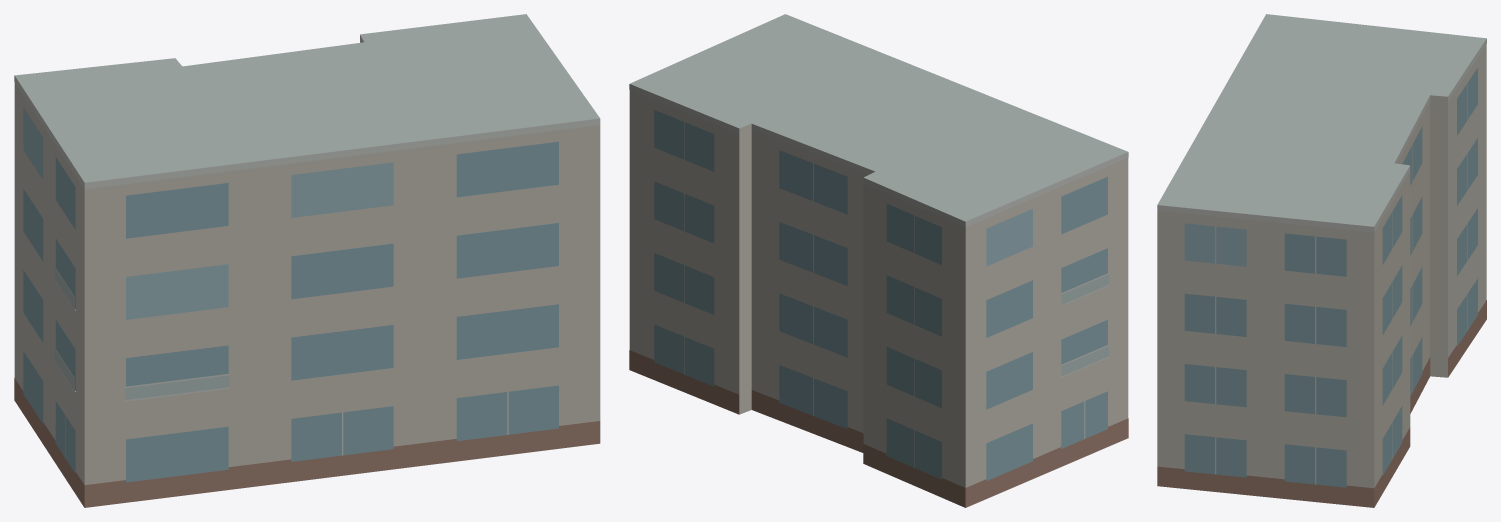
The model's file is survey-upis-32461882.glb.
3 views of the same model, side by side, from view 1: azimuth 30°, elevation 25°; view 2: azimuth 150°, elevation 25°; view 3: azimuth 270°, elevation 25° (orthographic). The views are drawn at different scales.
Parts seen in each view (by area): view 1: survey-upis-32461882.tmp; view 2: survey-upis-32461882.tmp; view 3: survey-upis-32461882.tmp.
Part boxes in pixels (box(x1,y1,x2,y2)): survey-upis-32461882.tmp: box(14, 14, 600, 507); survey-upis-32461882.tmp: box(629, 14, 1128, 507); survey-upis-32461882.tmp: box(1157, 14, 1486, 507).
Size of the model in its own units: 19.82 by 12.2 by 12.97.
